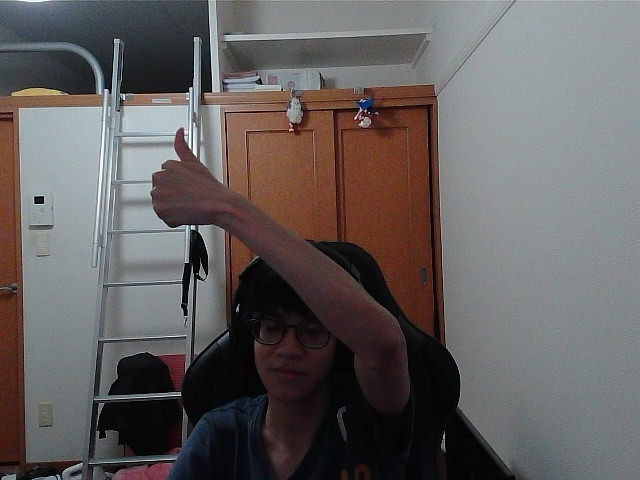thumb_up: (156, 131, 216, 218)
